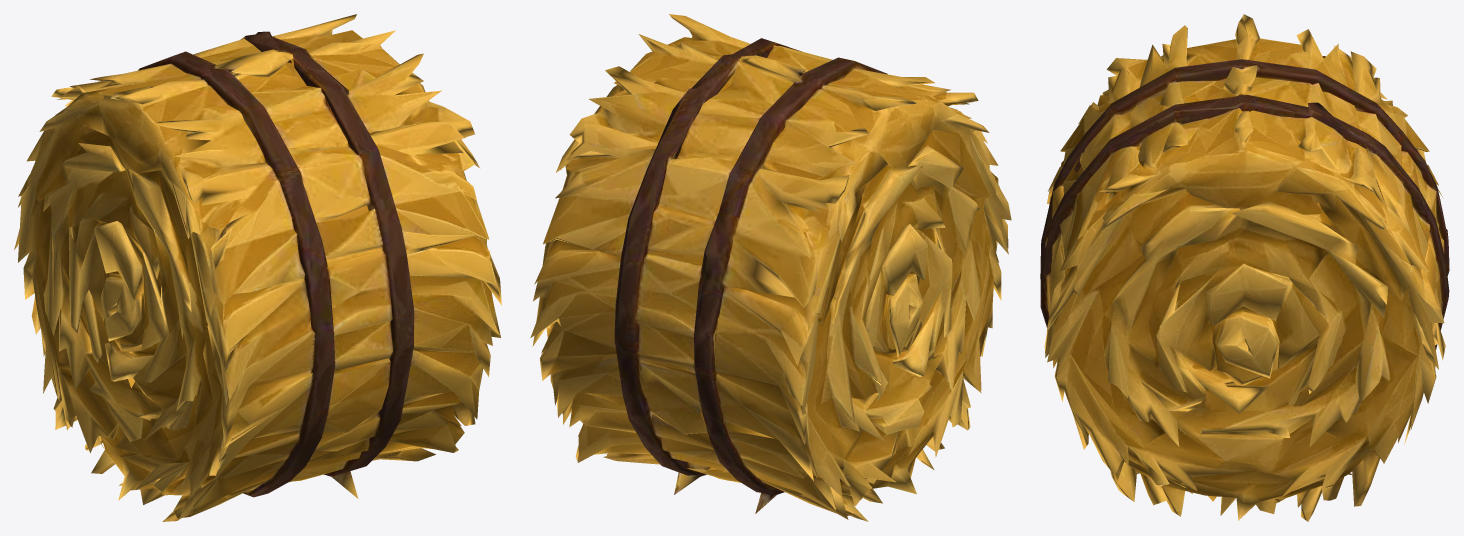
File: hay.glb
The picture shows the model from 3 angles, left to right: view 1: azimuth 30°, elevation 25°; view 2: azimuth 150°, elevation 25°; view 3: azimuth 270°, elevation 25°; orthographic projection. The views are drawn at different scales.
Size of the model in its own units: 0.7336 by 0.9492 by 0.9029.
Materials: 1 (1 with a texture image).
